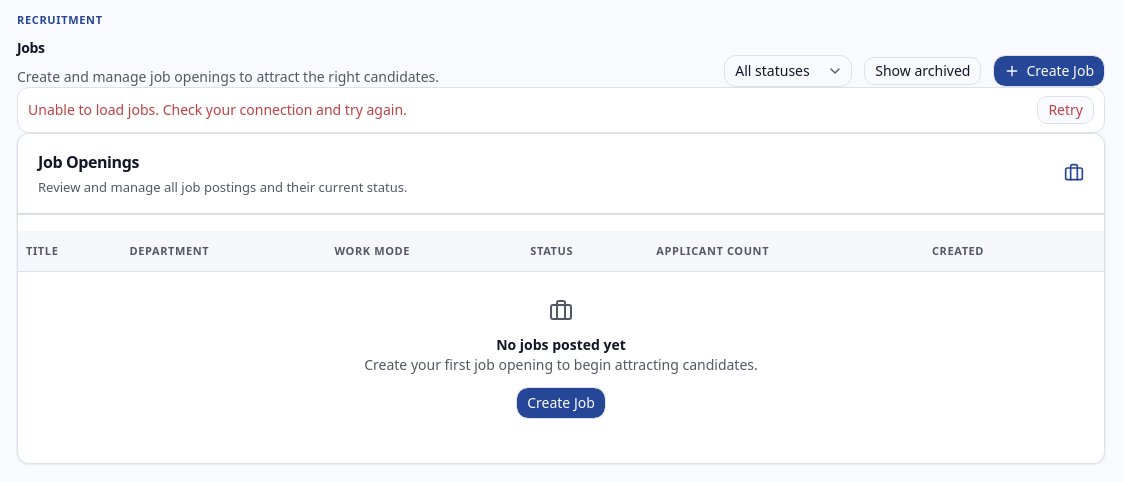
Test case: JobsPage › Error Handling › handles retry functionality
Click the button "Retry".
click(1066, 110)  # box [1037,96,1094,124]
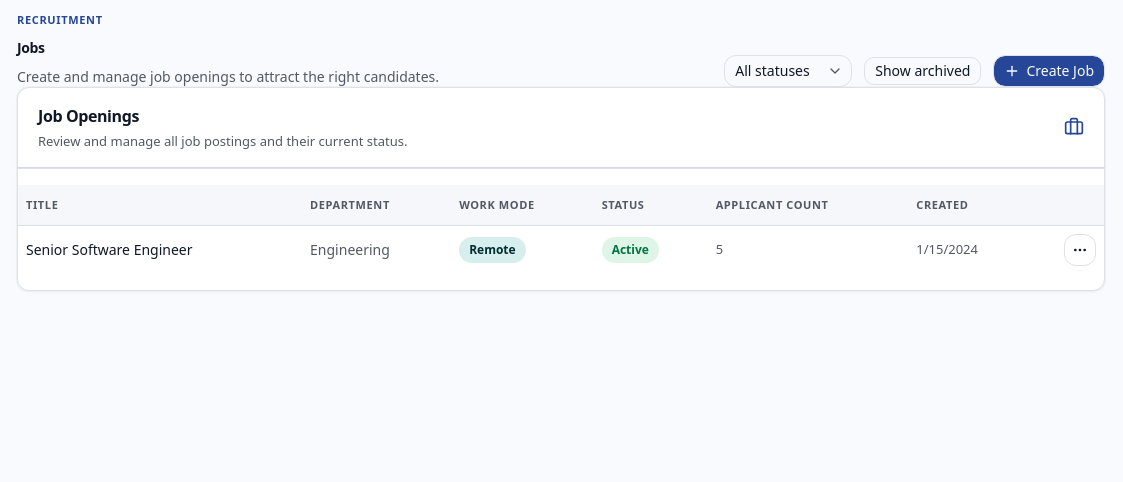
Expected: the button "Senior Software Engineer" is shown, [26,240,294,260]
